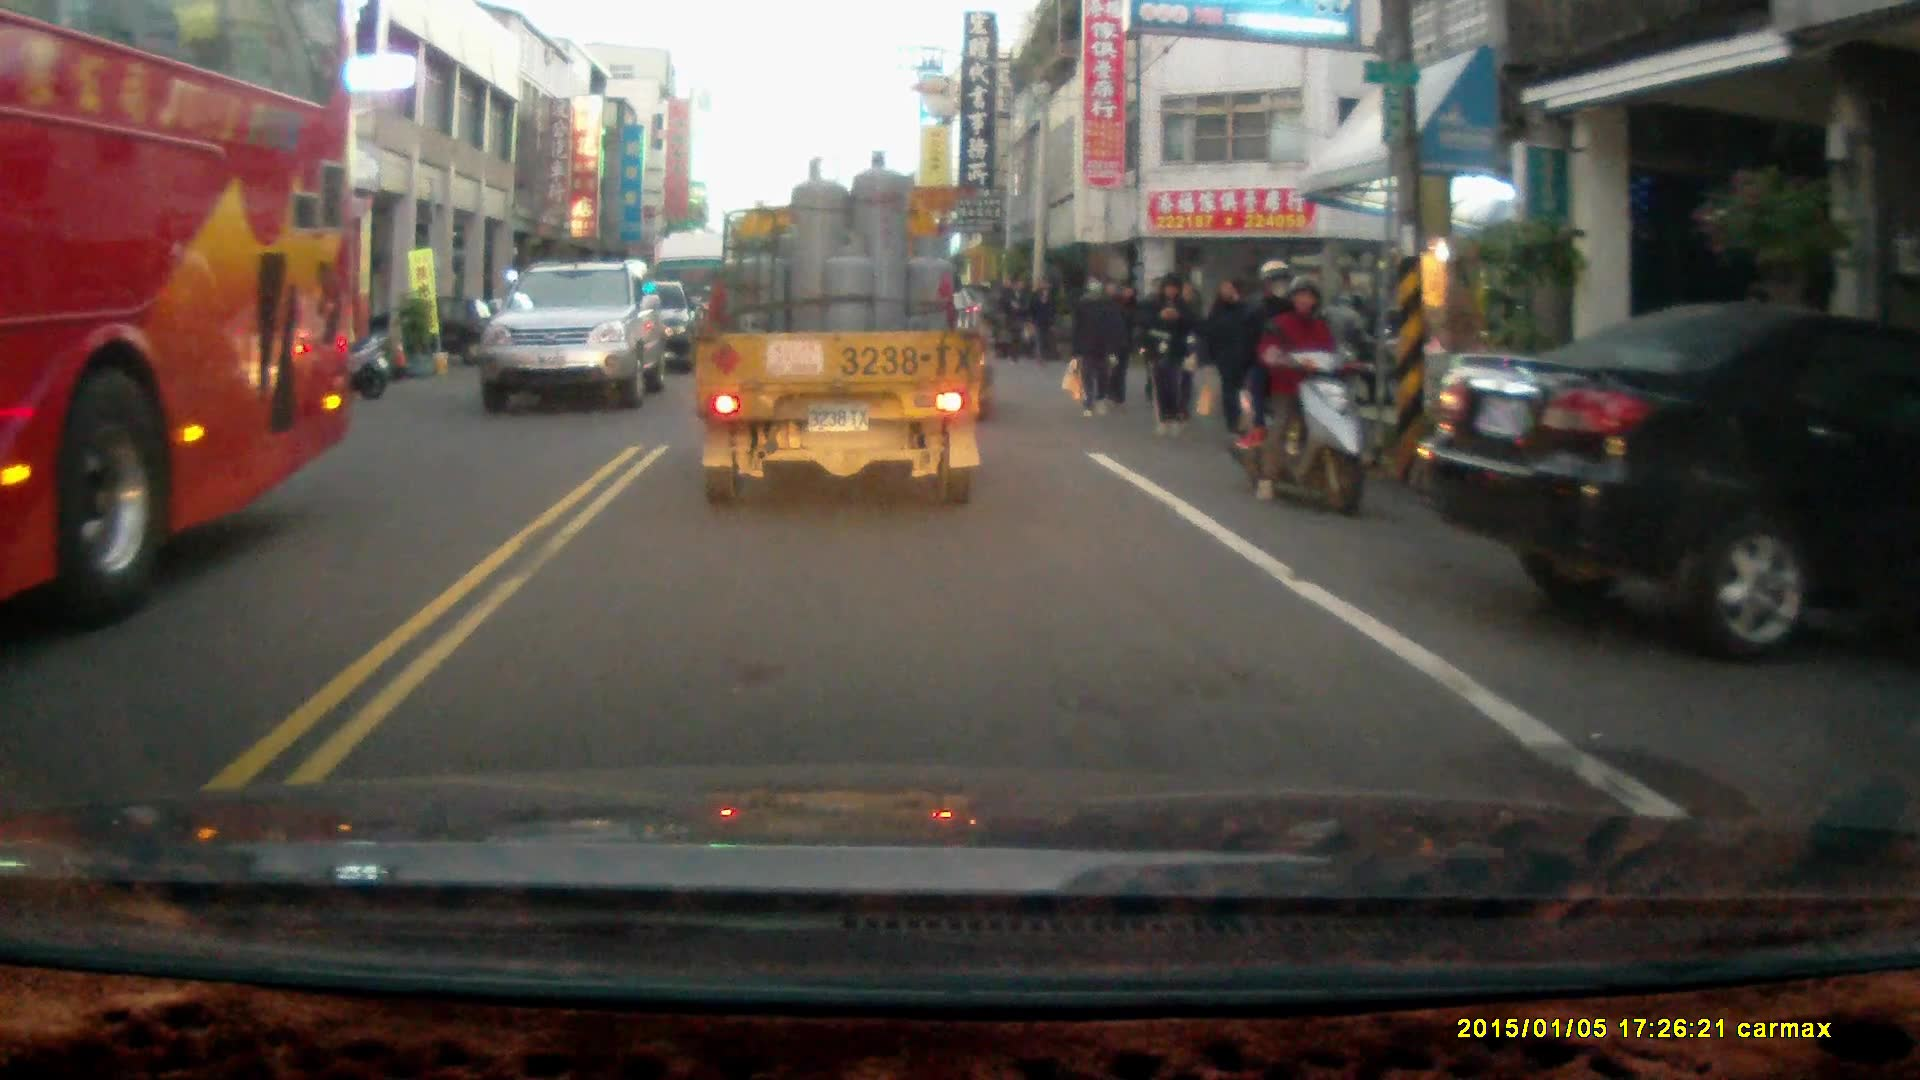pedestrian: (1195, 276, 1258, 442), (1147, 272, 1194, 439), (1070, 275, 1119, 421), (1098, 284, 1139, 412), (1025, 276, 1058, 368), (1001, 275, 1033, 366)
rider: (1221, 259, 1366, 516)
vehicle: (1, 7, 353, 636), (1423, 303, 1920, 671), (696, 154, 988, 516), (485, 262, 673, 417)
